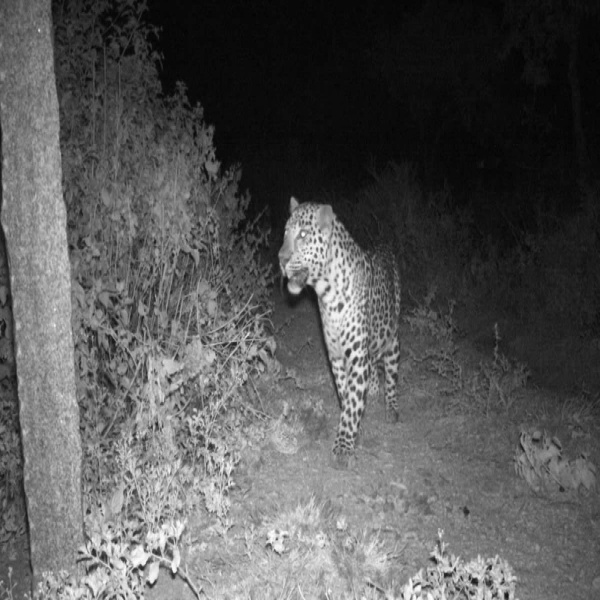Leopard: (275, 195, 429, 469)
